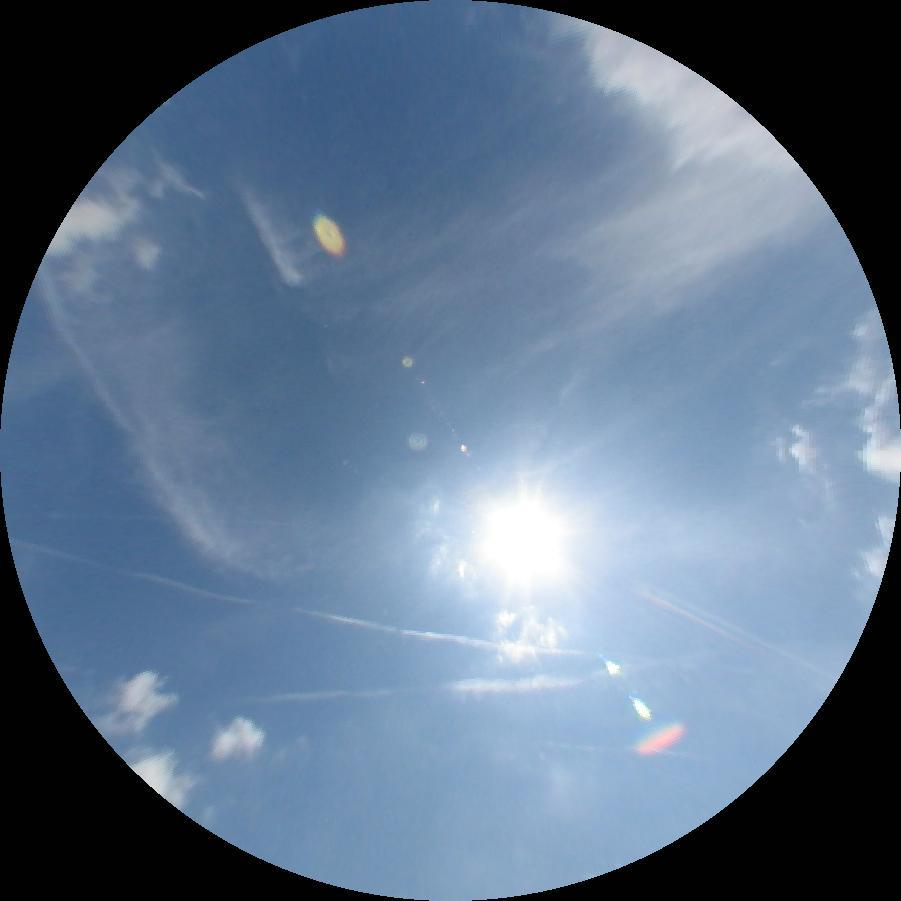contrail veryold: (6, 538, 583, 671), (251, 670, 588, 704)
parasite: (6, 509, 297, 526)
sun: (488, 509, 558, 574)
unknow: (537, 738, 679, 757)
